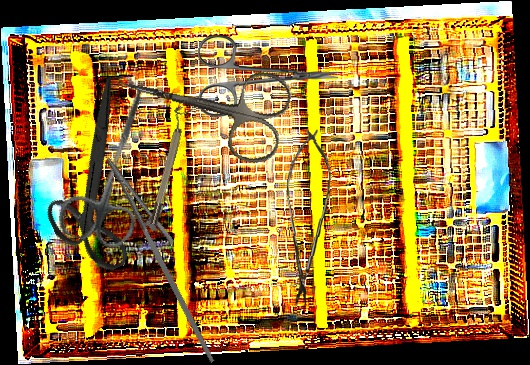Fixation Ring: (142, 105, 193, 226)
Iris Scissors: (4, 76, 187, 286), (109, 36, 296, 170), (54, 72, 176, 253), (197, 34, 339, 120)
Micro Scissor: (280, 127, 334, 308)
Needle Holder: (82, 147, 253, 364)
